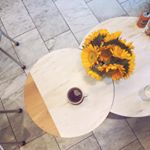cups: (64, 85, 89, 107)
